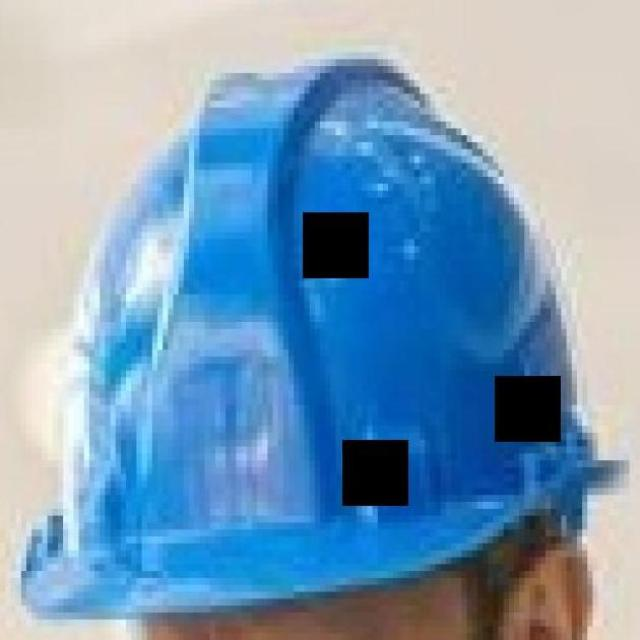blue helmet: (1, 45, 629, 619)
